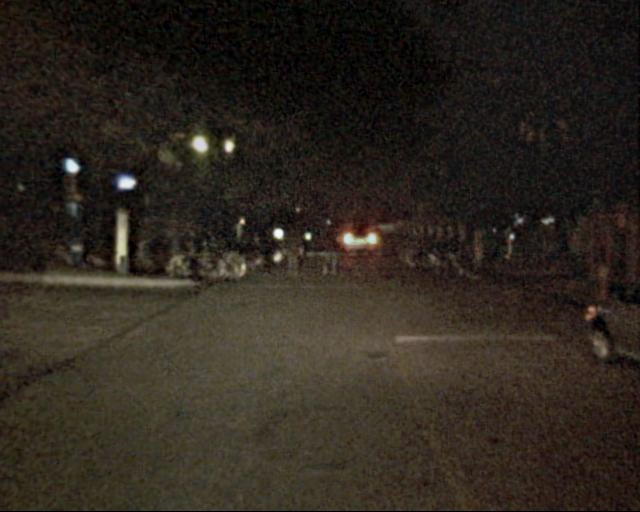person: (182, 222, 209, 287), (278, 222, 303, 274), (317, 222, 340, 278), (253, 218, 276, 270)
